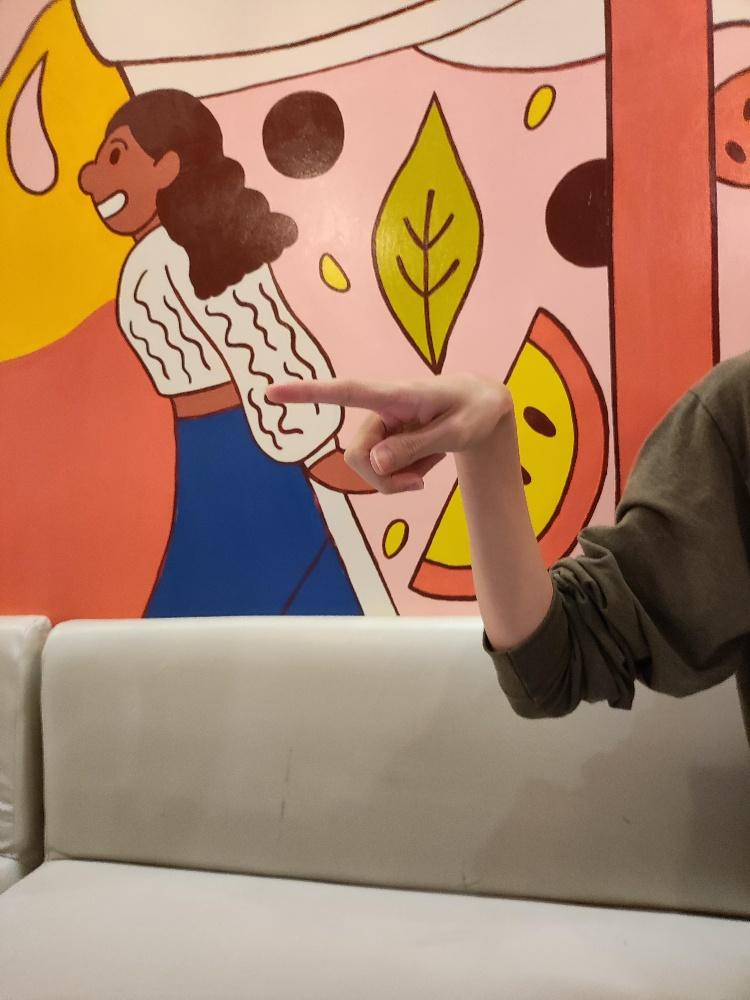z: (261, 368, 513, 497)
